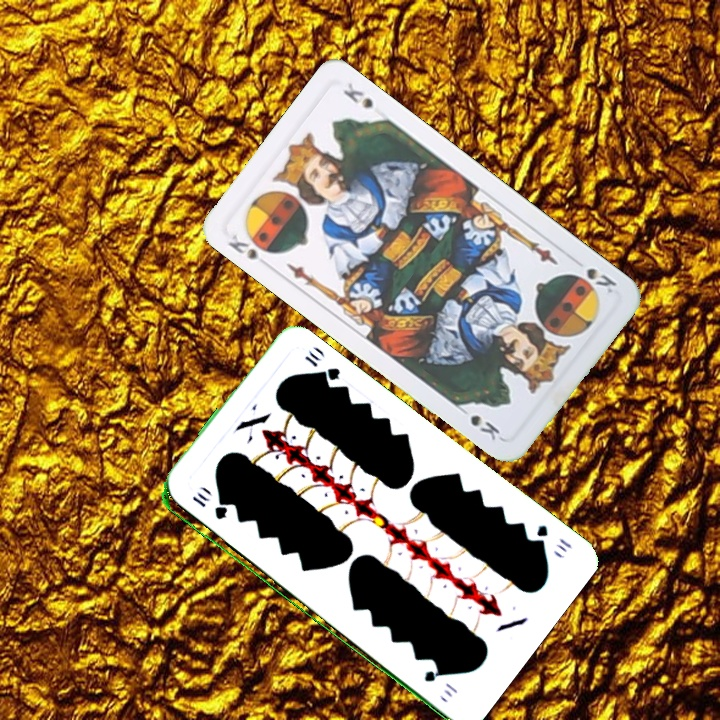G10: (530, 520, 574, 554), (188, 492, 229, 523)
SK: (223, 230, 274, 271), (582, 263, 620, 296)
